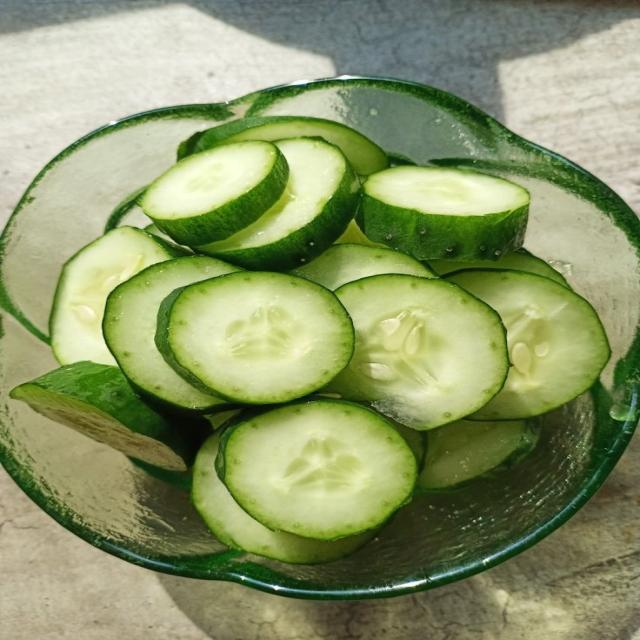cucumber sliced: (217, 400, 416, 540), (328, 275, 508, 429), (156, 272, 353, 403), (447, 270, 610, 420), (192, 434, 375, 563), (196, 138, 359, 270), (103, 256, 239, 411), (10, 362, 198, 471), (50, 227, 180, 364), (357, 166, 529, 260), (141, 141, 288, 245), (179, 116, 388, 175), (416, 420, 531, 489), (292, 244, 436, 290), (429, 248, 568, 286), (335, 220, 387, 248), (205, 408, 242, 430)
